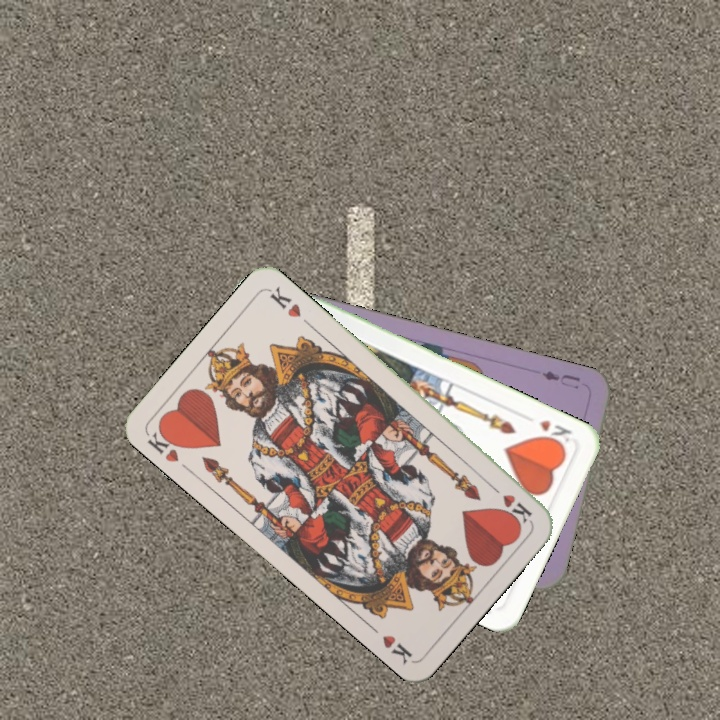EU: (537, 366, 583, 391)
HK: (484, 479, 535, 526), (143, 422, 187, 465), (535, 415, 575, 450)
